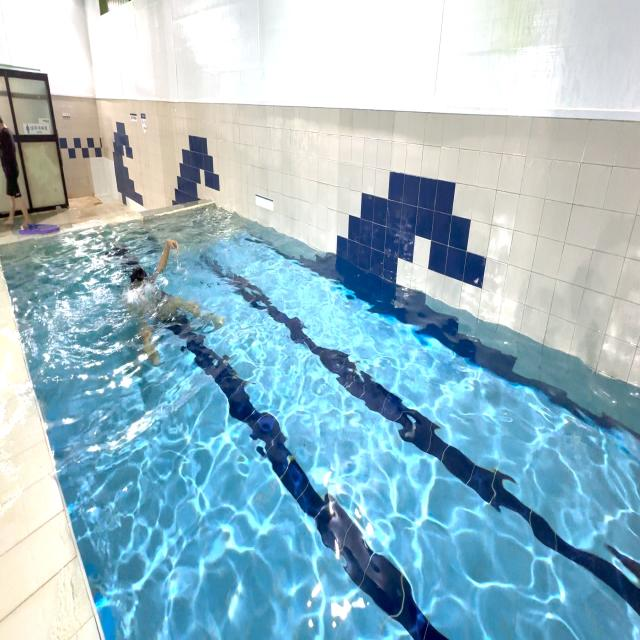Drowning: (99, 232, 213, 375)
